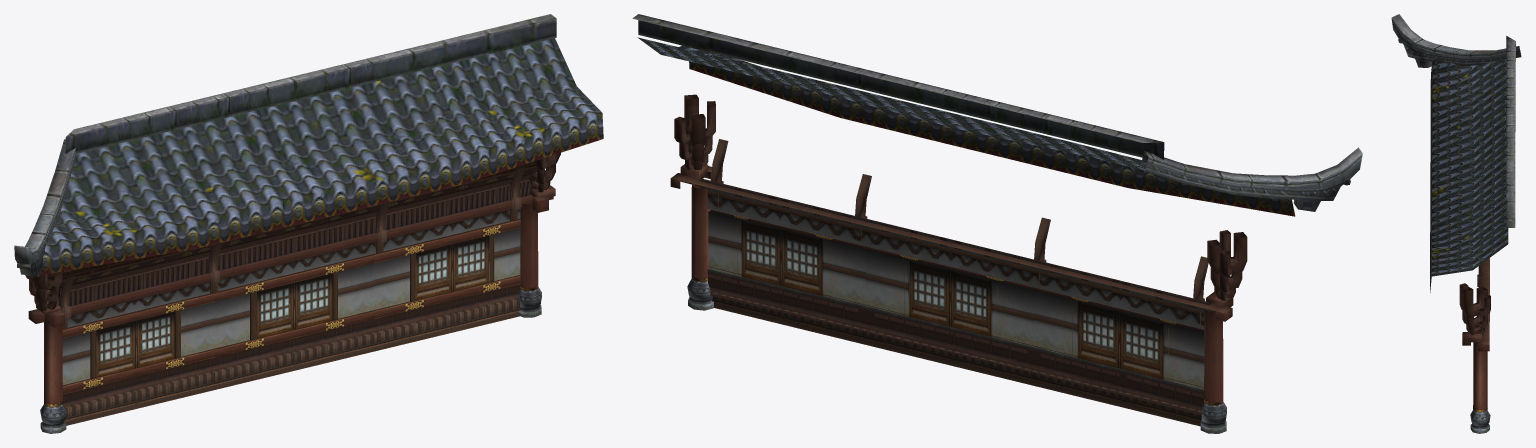
The model's file is S2_Build_XSC059.FBX.
3 views of the same model, side by side, from view 1: azimuth 30°, elevation 25°; view 2: azimuth 150°, elevation 25°; view 3: azimuth 270°, elevation 25° (orthographic). The views are drawn at different scales.
Parts seen in each view (by area): view 1: S2_Build_XSC059; view 2: S2_Build_XSC059; view 3: S2_Build_XSC059.
Part boxes in pixels (left/top/right/bottom): S2_Build_XSC059: left=14, top=14, right=603, bottom=433; S2_Build_XSC059: left=632, top=14, right=1362, bottom=433; S2_Build_XSC059: left=1391, top=14, right=1521, bottom=433.
Size of the model in its own units: 1299 by 557 by 300.
